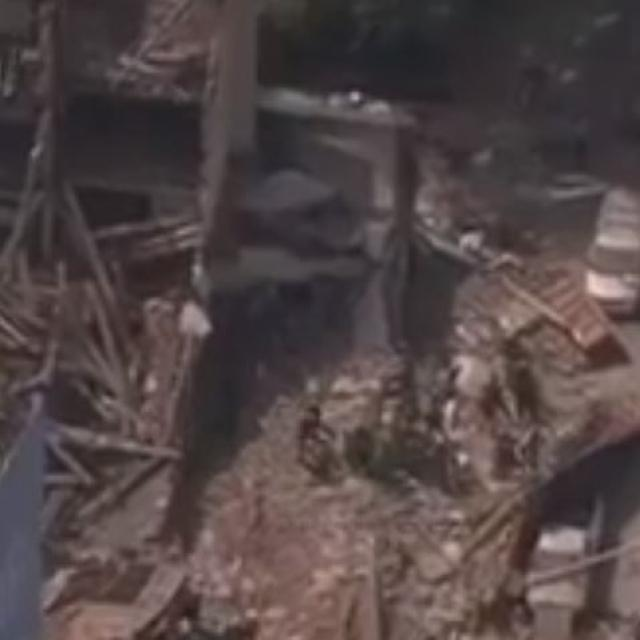collapsed_building: (44, 0, 378, 491)
